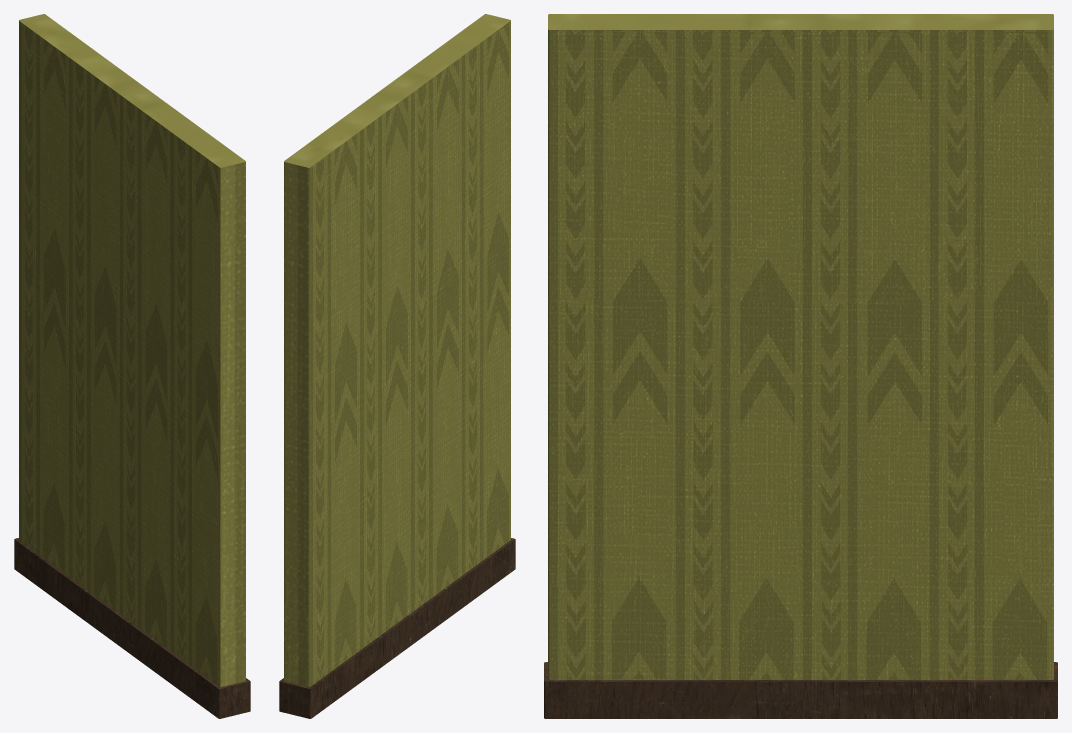
Rendered from backrooms-wall.glb.
The picture shows the model from 3 angles, left to right: view 1: azimuth 30°, elevation 25°; view 2: azimuth 150°, elevation 25°; view 3: azimuth 270°, elevation 25°; orthographic projection. The views are drawn at different scales.
Visible parts, largest first — view 1: Object_4, Object_5; view 2: Object_4, Object_5; view 3: Object_4, Object_5.
Part boxes in pixels (<box>): Object_4: <box>19,14,245,687</box>; Object_5: <box>14,538,250,718</box>; Object_4: <box>284,14,510,687</box>; Object_5: <box>279,538,515,718</box>; Object_4: <box>548,14,1053,679</box>; Object_5: <box>544,662,1057,718</box>.
Bounding box in the file's own units: 0.1825 × 3 × 2.03.
Materials: 2 (2 with a texture image).
